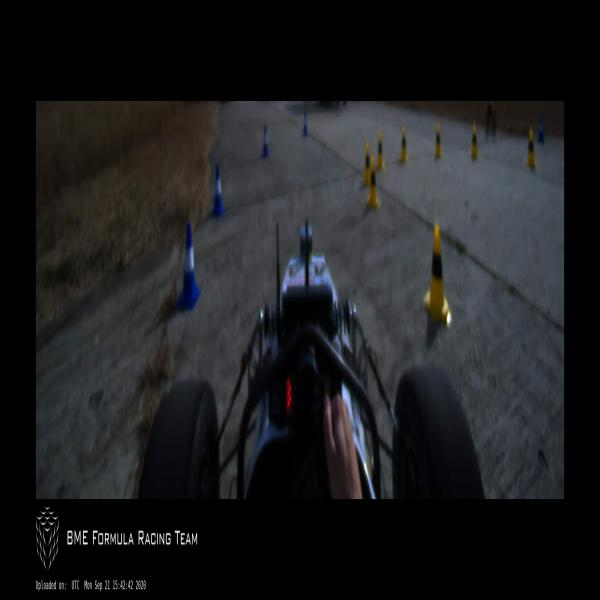blue_cone: (175, 223, 201, 315), (210, 164, 225, 221), (261, 126, 269, 158), (537, 116, 545, 144), (302, 111, 308, 136)
yellow_cone: (423, 227, 452, 324), (366, 157, 380, 209), (525, 130, 537, 167), (362, 143, 371, 189), (376, 133, 385, 170), (400, 127, 408, 164), (434, 124, 442, 160), (470, 126, 478, 158)
